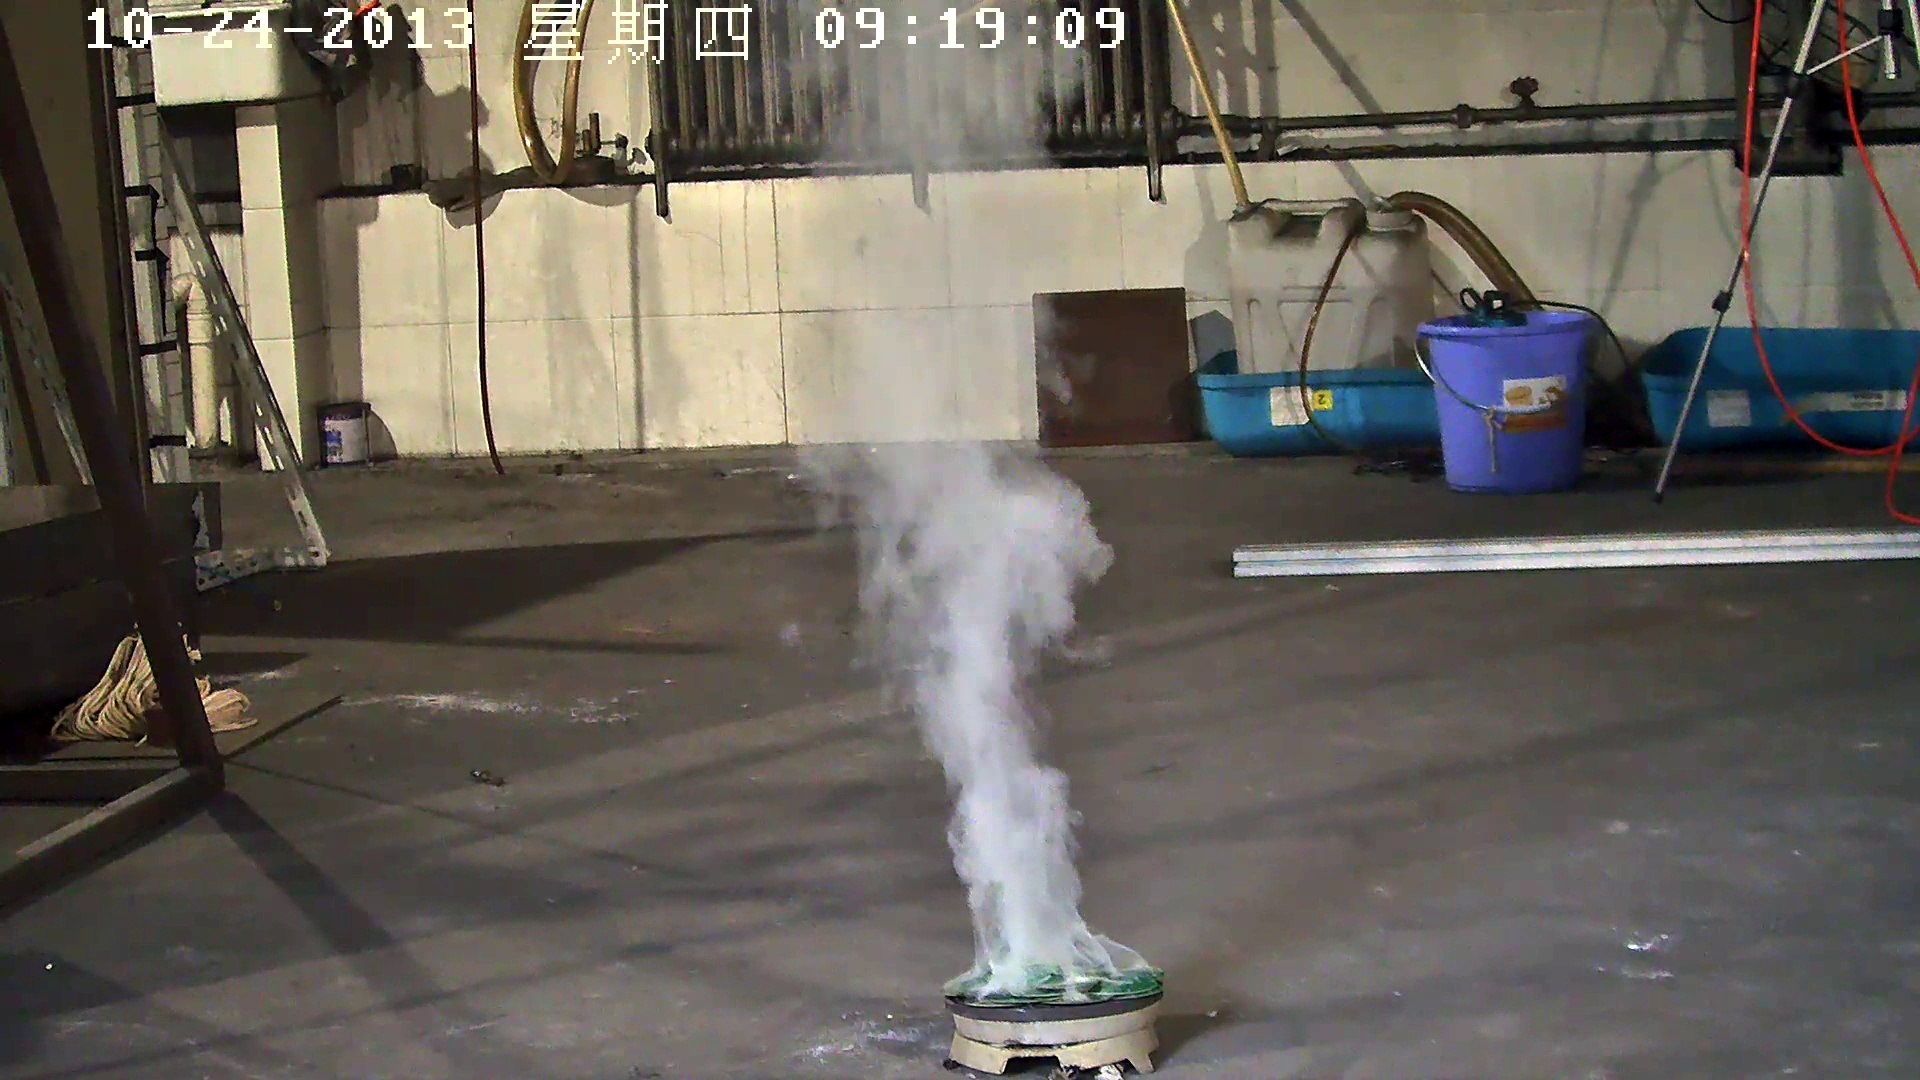smoke: (748, 44, 1178, 1007)
